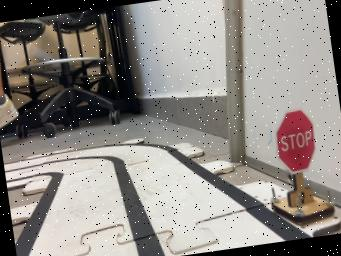stop: (270, 108, 334, 224), (270, 108, 334, 224), (270, 108, 334, 224), (270, 108, 334, 224), (270, 108, 334, 224), (270, 108, 334, 224)
street: (4, 144, 309, 256), (4, 144, 309, 256), (4, 144, 309, 256), (4, 144, 309, 256), (4, 144, 309, 256), (4, 144, 309, 256)
